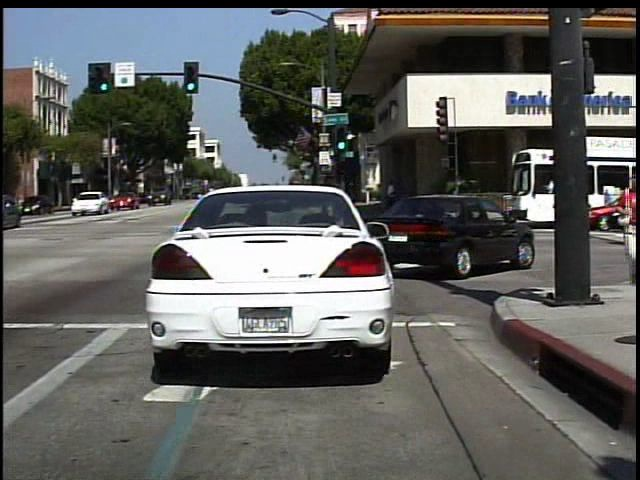person: (613, 167, 639, 286), (382, 175, 401, 217)
